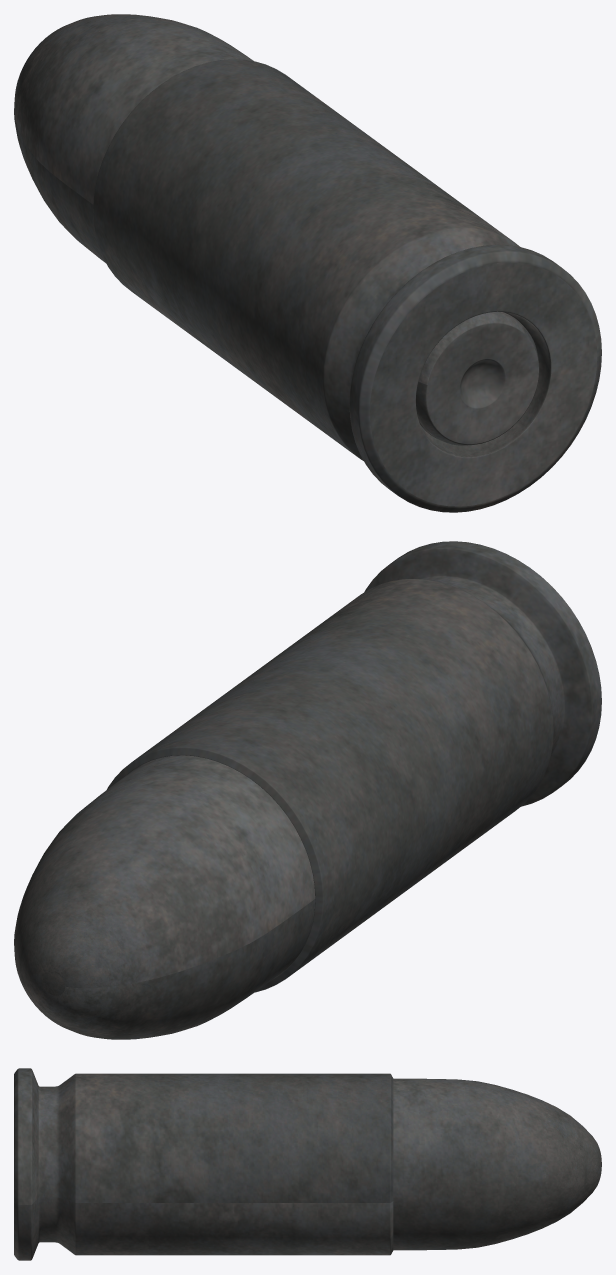
File: bullet.obj
The picture shows the model from 3 angles, top to bottom: view 1: azimuth 30°, elevation 25°; view 2: azimuth 150°, elevation 25°; view 3: azimuth 270°, elevation 25°; orthographic projection. The views are drawn at different scales.
Parts seen in each view (by area): view 1: Object01; view 2: Object01; view 3: Object01.
Boxes of the visible parts, x1,y1,x2,y2 form: Object01: (14, 14, 601, 512); Object01: (14, 541, 601, 1039); Object01: (14, 1068, 601, 1260).
Size of the model in its own units: 115 by 115 by 353.
1 material, 1 textured.
